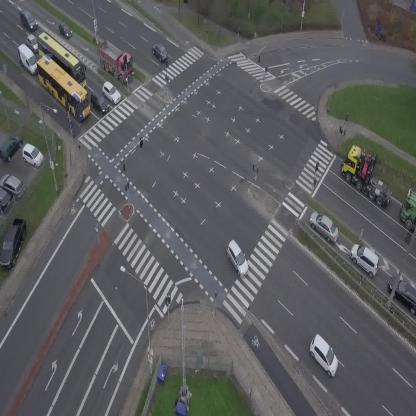bus: (28, 52, 100, 122), (28, 30, 95, 91)
car: (302, 333, 348, 378), (344, 240, 386, 279), (305, 208, 344, 245), (220, 239, 255, 280), (98, 79, 124, 106), (86, 89, 112, 116), (15, 6, 40, 32), (150, 41, 170, 63), (54, 20, 74, 41), (27, 34, 36, 53)
lorry: (333, 141, 409, 210), (88, 35, 142, 86), (12, 42, 43, 78), (401, 191, 416, 231)
